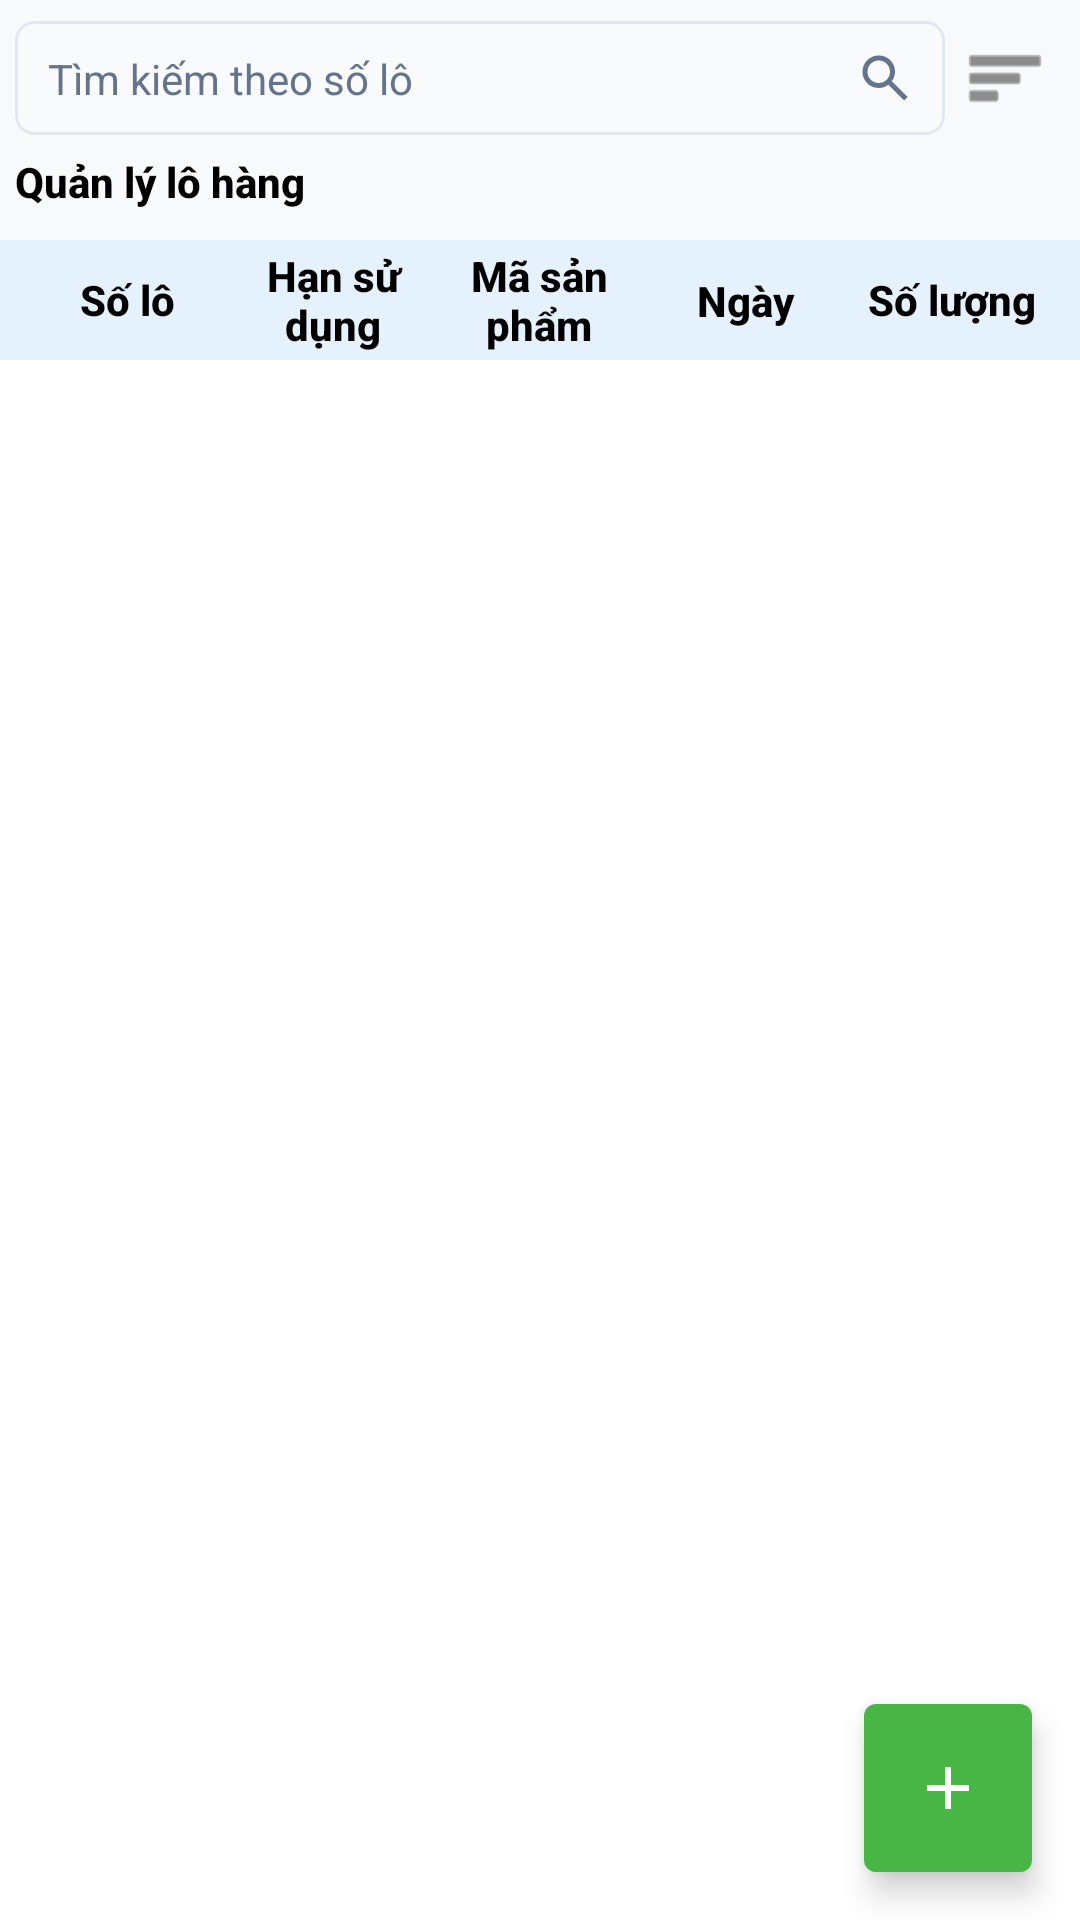

Icons on this 1080px×1920px Android screen, each with the point to tap as [x,y]:
Lọc: [1005,78]
search: [885,78]
Thêm lô hàng: [948,1788]
